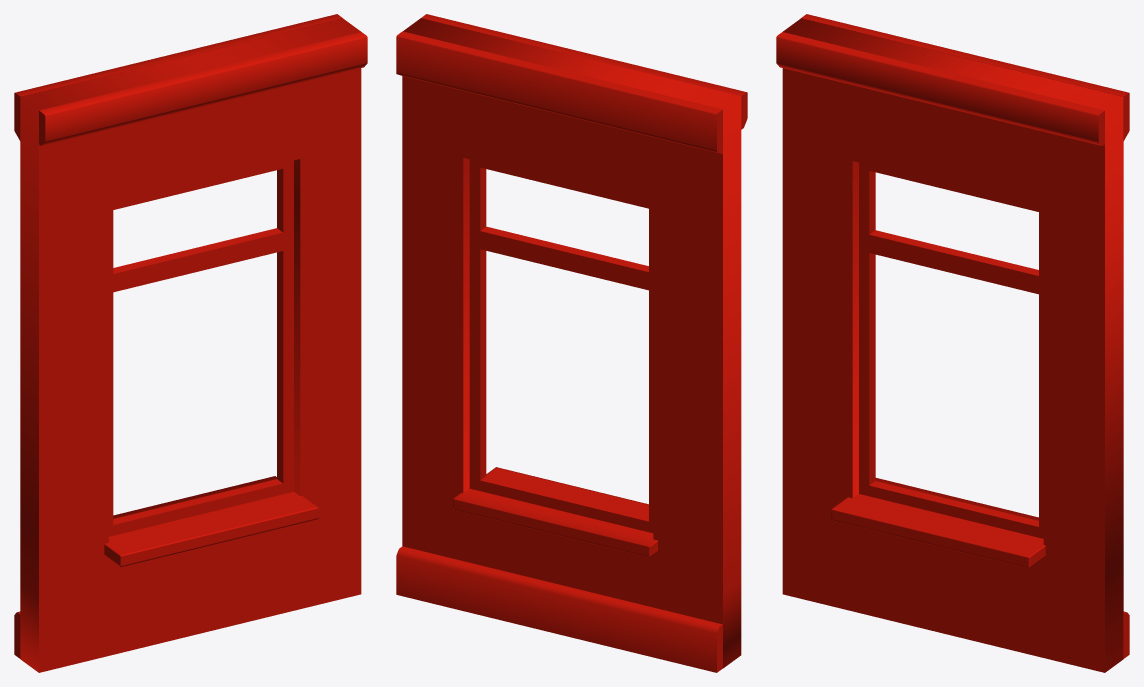
Rendered from IndBuilding1_Wall_Mid_A.fbx.
3 renders of one model, left to right at view 1: azimuth 30°, elevation 25°; view 2: azimuth 150°, elevation 25°; view 3: azimuth 330°, elevation 25°, orthographic.
Visible parts, largest first — view 1: IndBuilding1_Wall_Mid_A; view 2: IndBuilding1_Wall_Mid_A; view 3: IndBuilding1_Wall_Mid_A.
Part boxes in pixels (box(x1,y1,x2,y2)): IndBuilding1_Wall_Mid_A: box(14, 14, 367, 672); IndBuilding1_Wall_Mid_A: box(396, 14, 747, 672); IndBuilding1_Wall_Mid_A: box(776, 14, 1129, 672).
Size of the model in its own units: 3 by 5 by 0.7.
